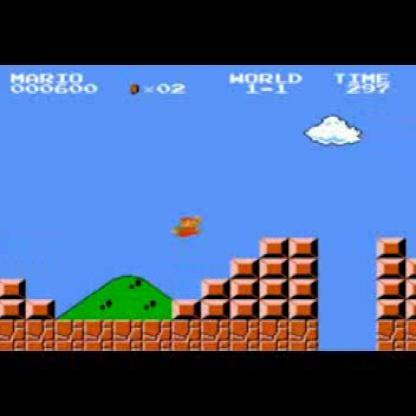Hoyo: (313, 319, 381, 350)
